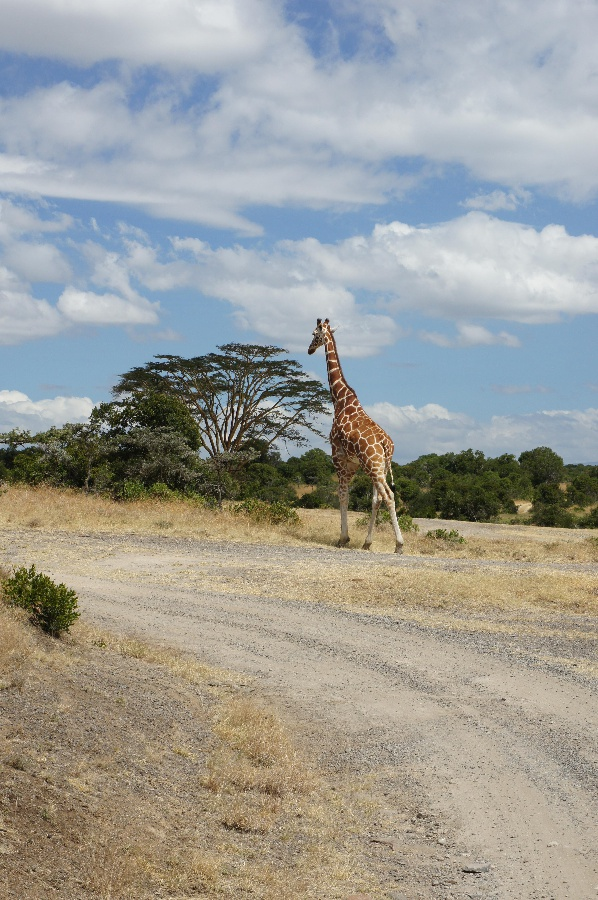giraffe: (304, 313, 415, 557)
